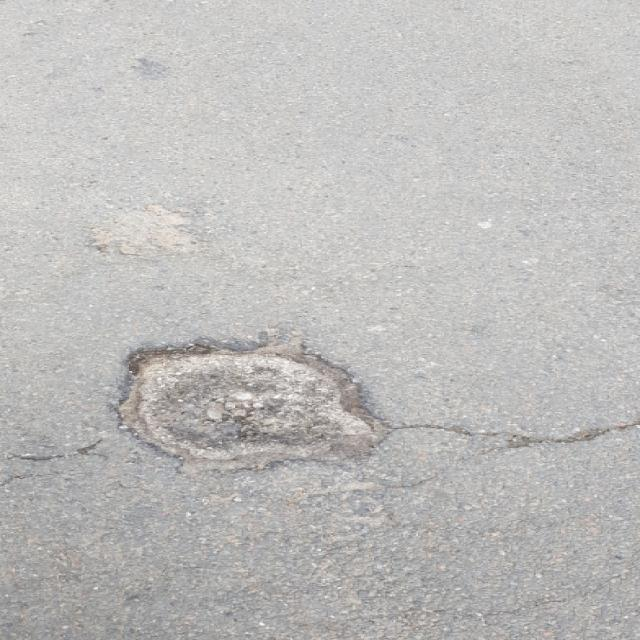pothole: (98, 334, 404, 468)
